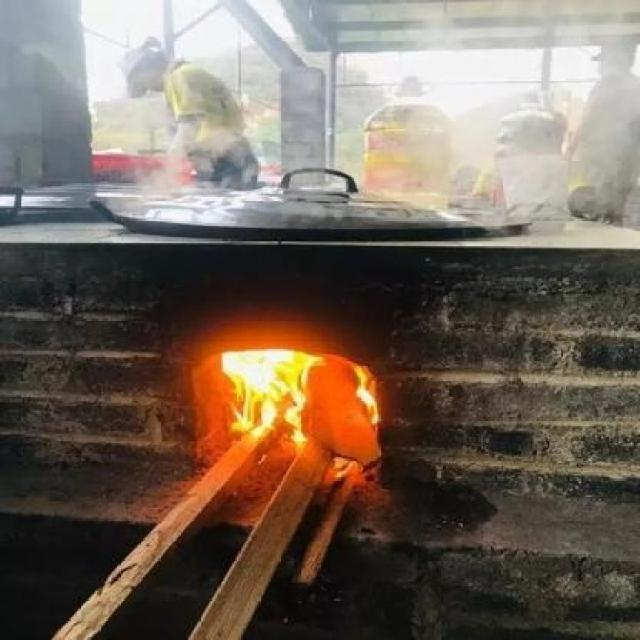Fire: (218, 345, 315, 455)
